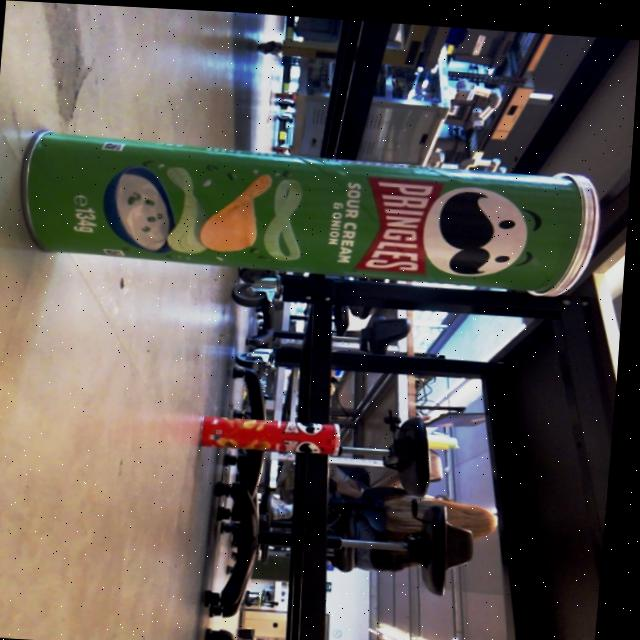greenpringles: (0, 114, 619, 307)
redpringles: (194, 394, 374, 463)
